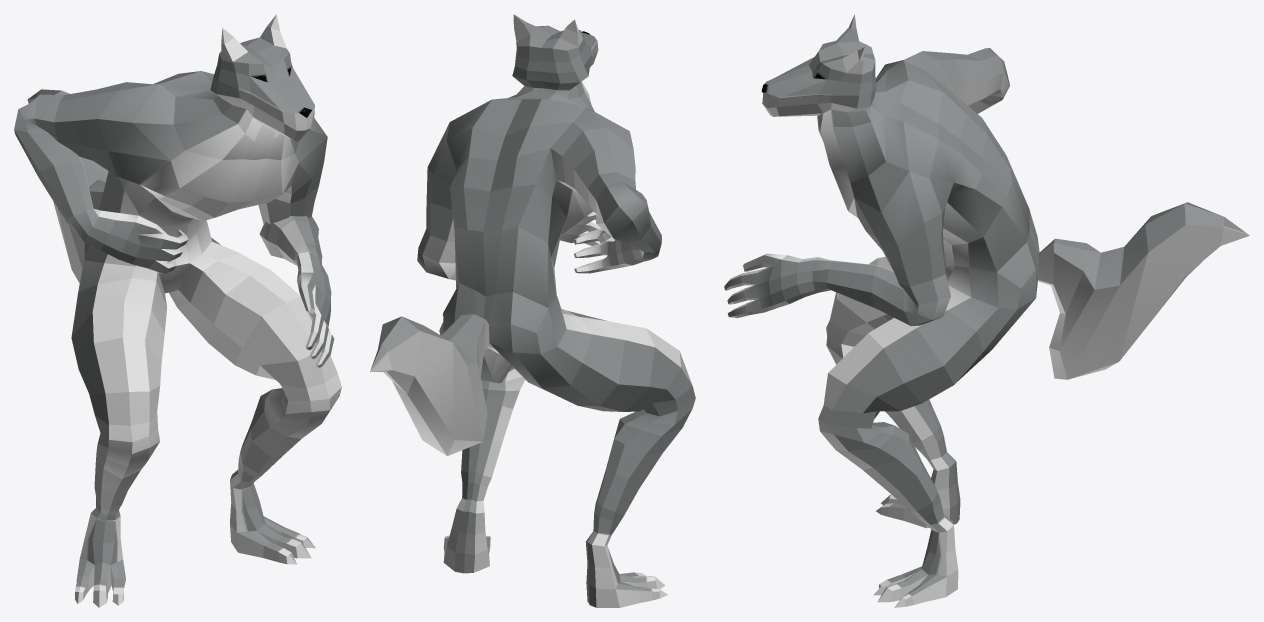
File: WolfIdle_(72).obj
3 views of the same model, side by side, from view 1: azimuth 30°, elevation 25°; view 2: azimuth 150°, elevation 25°; view 3: azimuth 270°, elevation 25° (orthographic). The views are drawn at different scales.
Visible parts, largest first — view 1: Box001; view 2: Box001; view 3: Box001.
Part boxes in pixels (<box>): Box001: <box>14,14,341,607</box>; Box001: <box>370,14,695,607</box>; Box001: <box>724,14,1249,607</box>.
Bounding box in the file's own units: 65.94 × 132 × 116.
